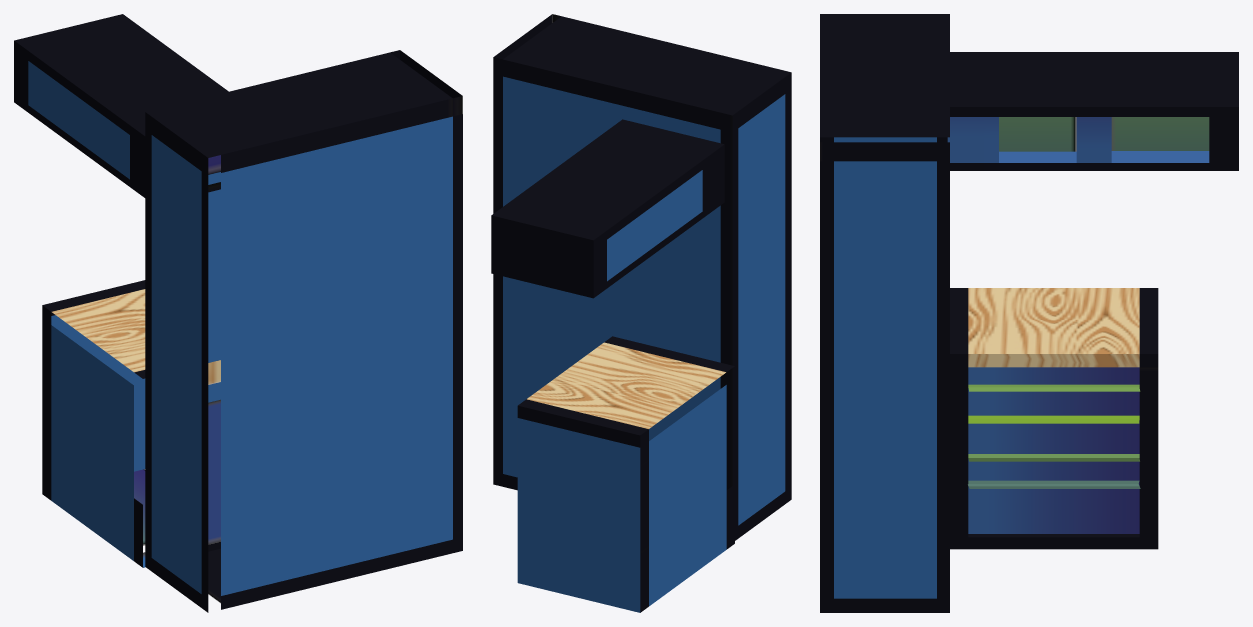
File: Werkkast.fbx
3 renders of one model, left to right at view 1: azimuth 30°, elevation 25°; view 2: azimuth 150°, elevation 25°; view 3: azimuth 270°, elevation 25°, orthographic. The views are drawn at different scales.
Parts seen in each view (by area): view 1: Cube.001, Cube, Cube.002; view 2: Cube.001, Cube, Cube.002; view 3: Cube.001, Cube, Cube.002.
Part boxes in pixels (x1,y1,x2,y2): Cube.001: (145,50,462,612); Cube: (42,280,220,567); Cube.002: (14,14,228,197); Cube.001: (493,14,791,540); Cube: (517,336,734,612); Cube.002: (491,119,724,298); Cube.001: (820,14,949,612); Cube: (950,288,1158,549); Cube.002: (947,52,1238,170).
Size of the model in its own units: 473 by 800 by 645.
